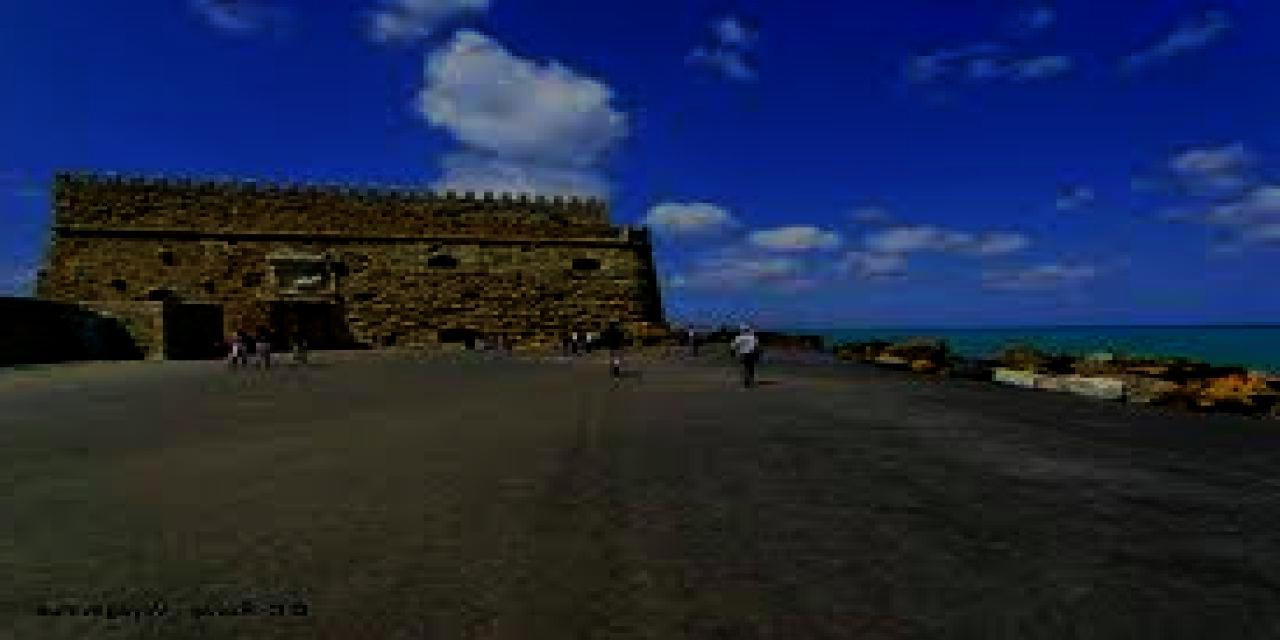Kules: (33, 172, 679, 359)
